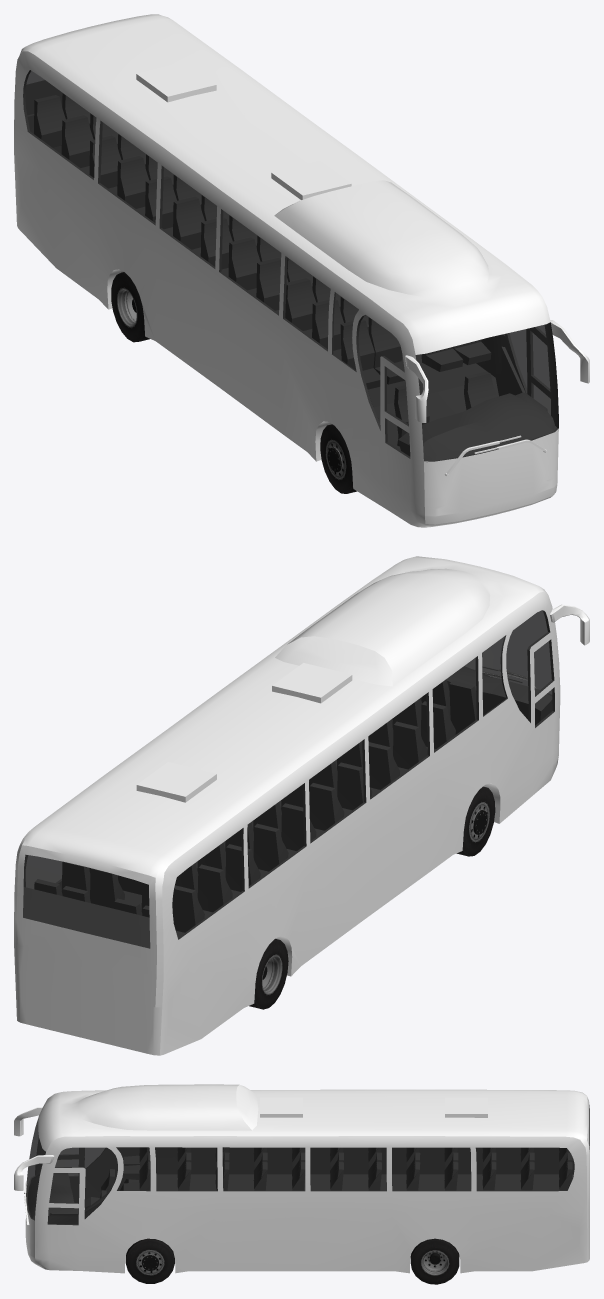
File: SM_Bus.fbx
3 views of the same model, one above another, from view 1: azimuth 30°, elevation 25°; view 2: azimuth 150°, elevation 25°; view 3: azimuth 270°, elevation 25° (orthographic). The views are drawn at different scales.
Parts seen in each view (by area): view 1: SM_Bus01; view 2: SM_Bus01; view 3: SM_Bus01.
Part boxes in pixels (<box>): SM_Bus01: <box>14,14,589,527</box>; SM_Bus01: <box>14,556,589,1055</box>; SM_Bus01: <box>14,1084,589,1284</box>.
Bounding box in the file's own units: 297 × 402 × 1268.
